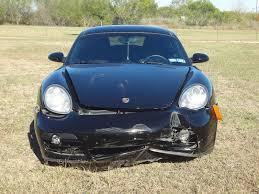front-bumper-dent: (60, 117, 178, 157)
